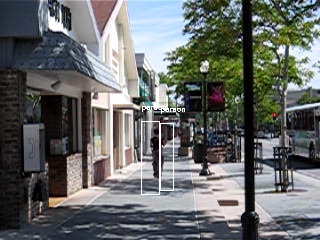person: (150, 129, 167, 180), (149, 129, 166, 180), (151, 129, 168, 180), (150, 128, 167, 179), (150, 130, 167, 181)
target_negative: (47, 106, 227, 175), (156, 61, 242, 105), (270, 50, 296, 100), (268, 219, 314, 237), (231, 176, 243, 218), (170, 104, 189, 115)
